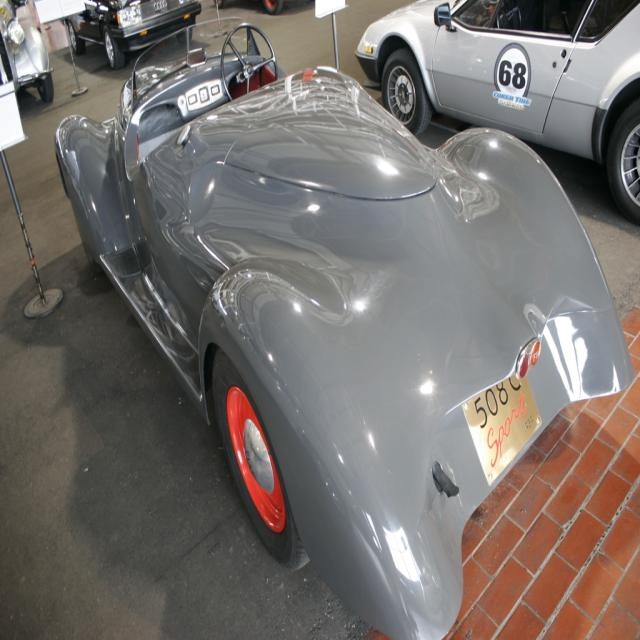Passenger Car: (52, 42, 610, 636), (356, 4, 640, 224), (65, 1, 212, 73), (1, 1, 58, 109)
